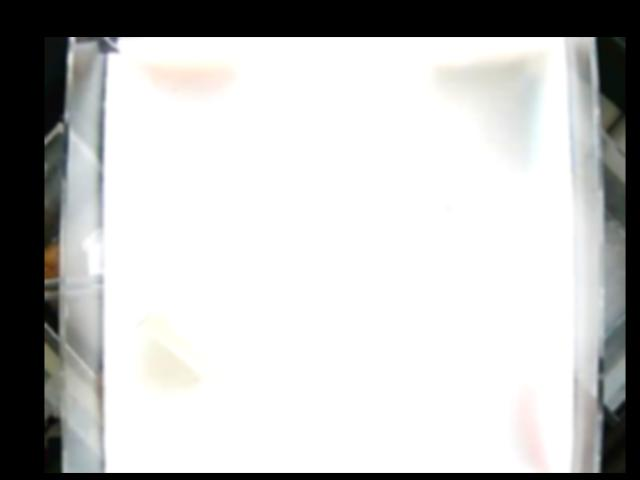Cup: (134, 246, 272, 384)
